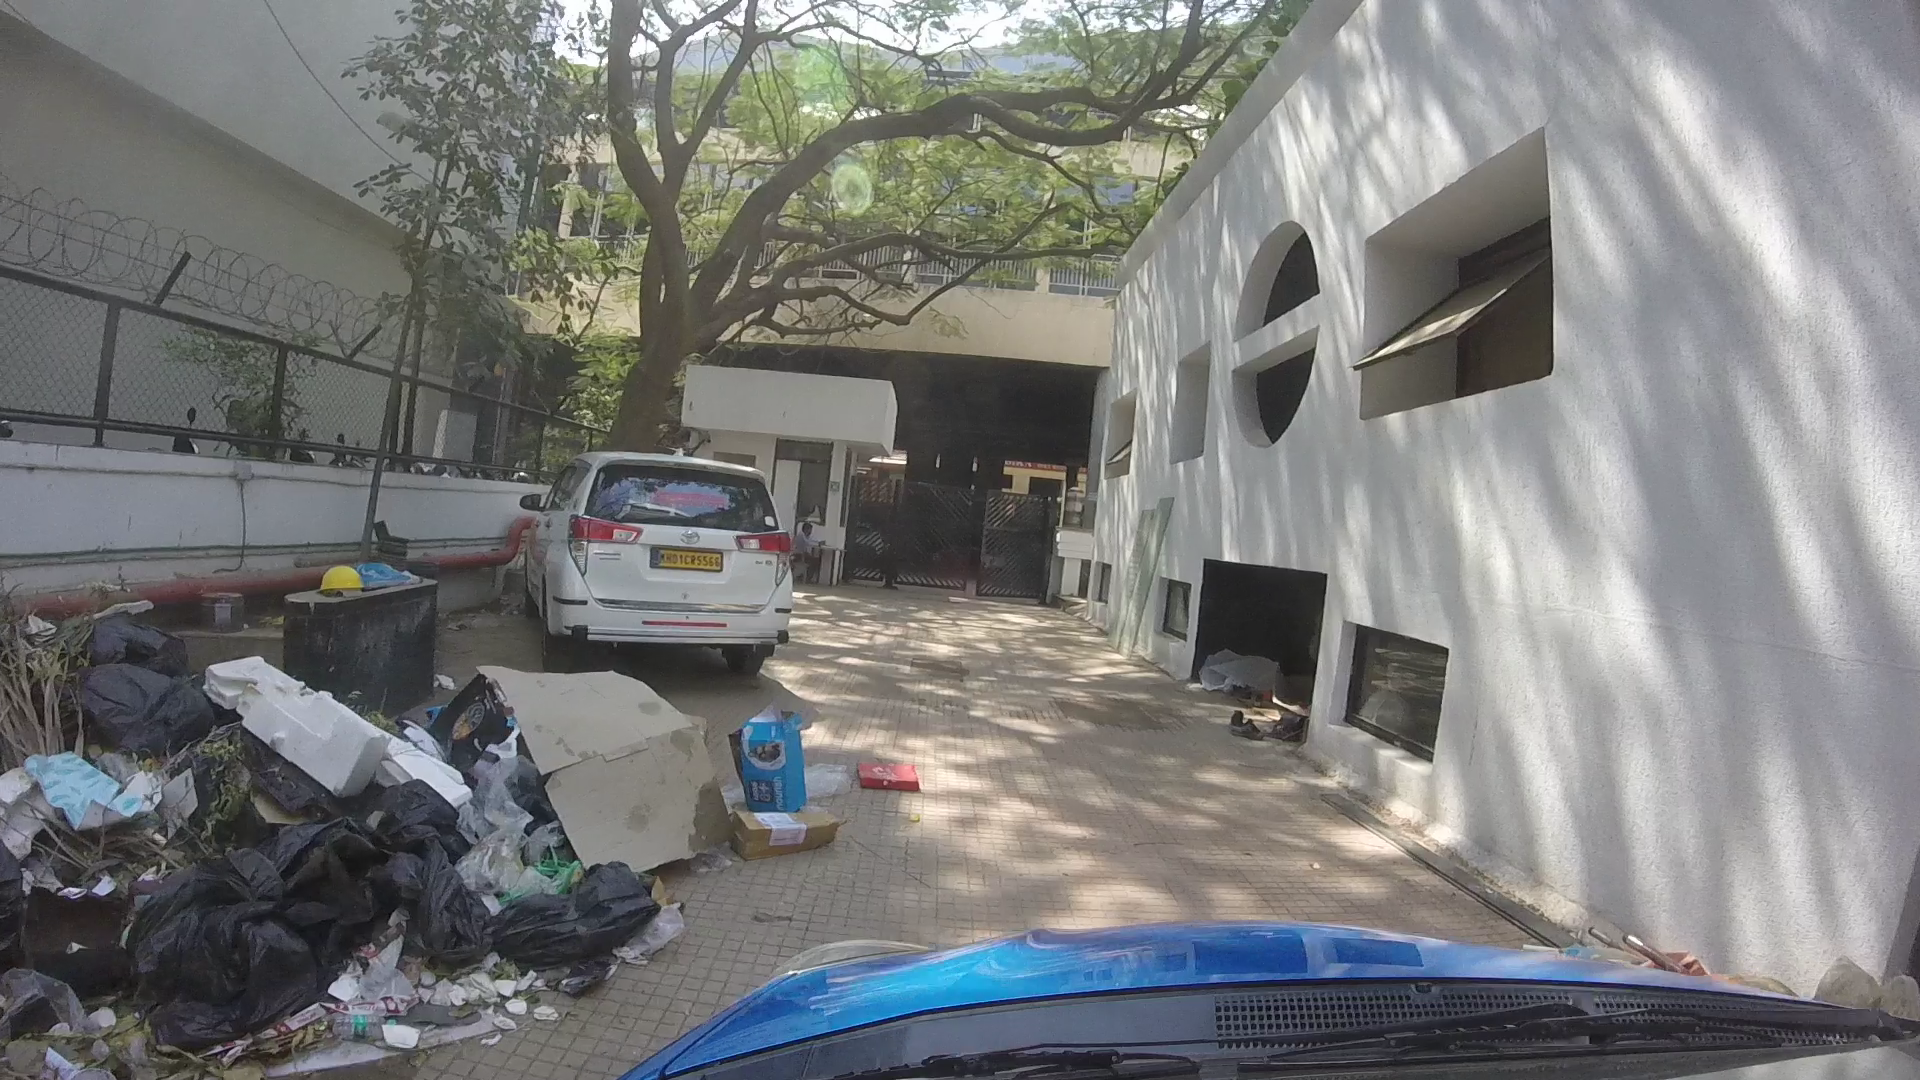car: (498, 431, 822, 675)
